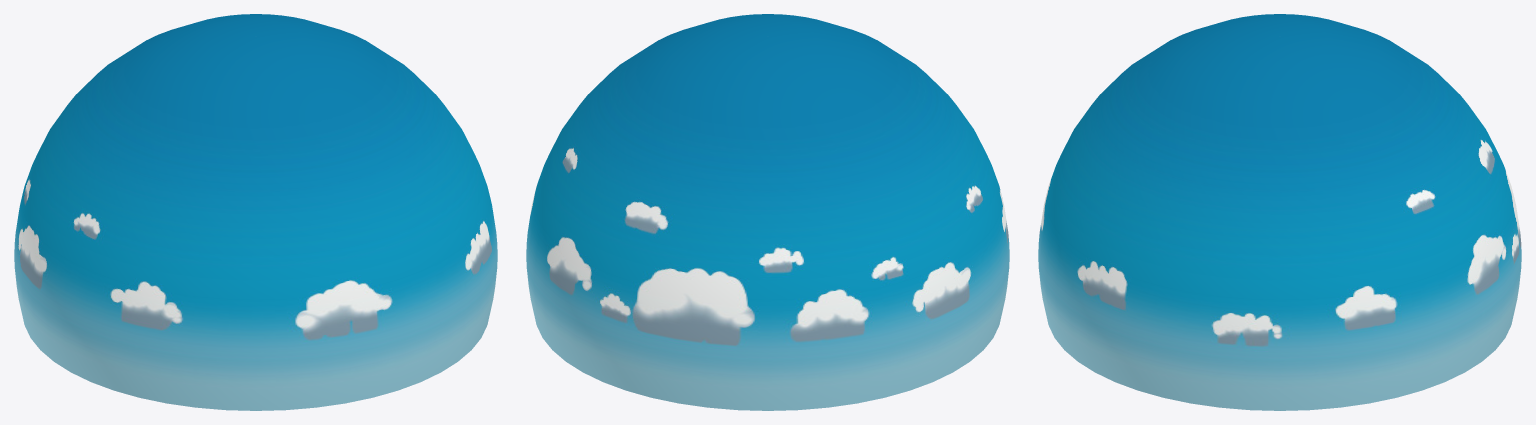
File: env_meadow.glb
3 views of the same model, side by side, from view 1: azimuth 30°, elevation 25°; view 2: azimuth 150°, elevation 25°; view 3: azimuth 270°, elevation 25° (orthographic).
Visible parts, largest first — view 1: meadow_sky_dome; view 2: meadow_sky_dome; view 3: meadow_sky_dome.
Boxes of the visible parts, x1,y1,x2,y2 form: meadow_sky_dome: (14, 14, 497, 410); meadow_sky_dome: (526, 14, 1009, 410); meadow_sky_dome: (1038, 14, 1521, 410).
Size of the model in its own units: 560 by 352 by 560.
6 materials, 5 textured.
